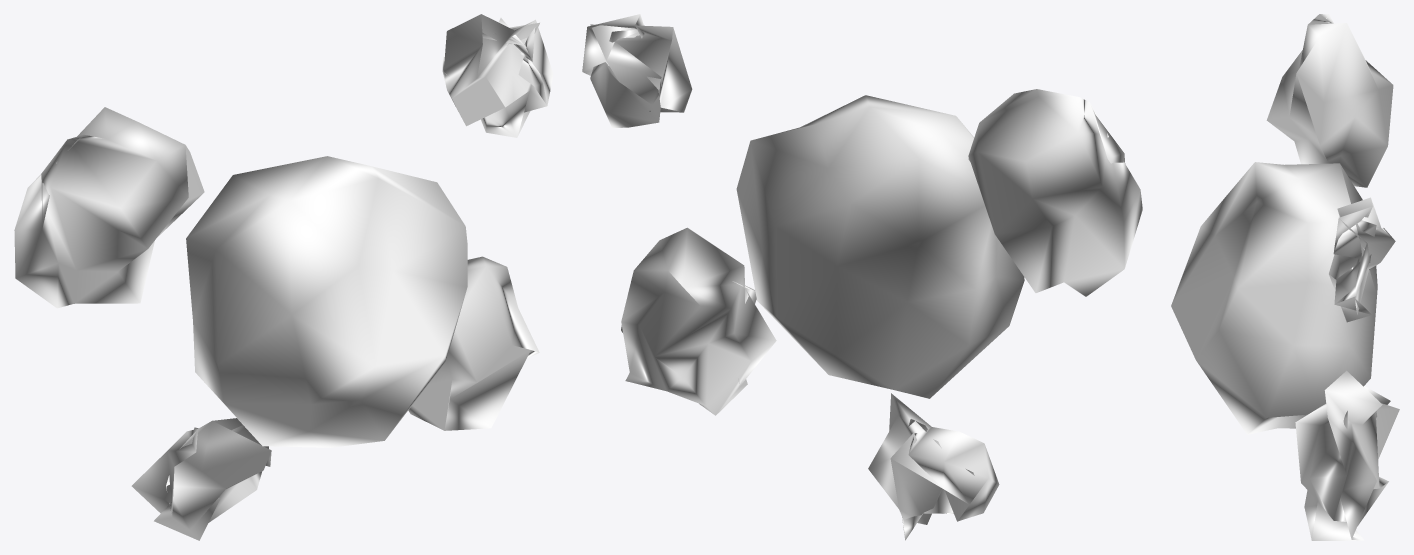
File: SM_Rock_Cluster_B.glb
3 renders of one model, left to right at view 1: azimuth 30°, elevation 25°; view 2: azimuth 150°, elevation 25°; view 3: azimuth 270°, elevation 25°, orthographic. The views are drawn at different scales.
Parts seen in each view (by area): view 1: asset_rock_cluster_b; view 2: asset_rock_cluster_b; view 3: asset_rock_cluster_b.
Boxes of the visible parts, left/top/right/bottom form: asset_rock_cluster_b: left=14, top=14, right=553, bottom=540; asset_rock_cluster_b: left=582, top=14, right=1142, bottom=540; asset_rock_cluster_b: left=1171, top=14, right=1399, bottom=540.
Size of the model in its own units: 2.23 by 1.82 by 0.9083.
1 material, 1 textured.
